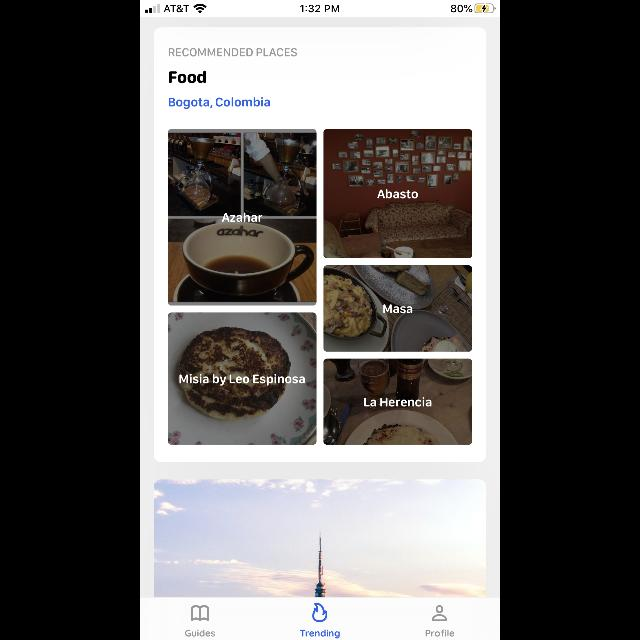icon: (190, 605, 210, 621), (432, 605, 448, 621)
image: (154, 480, 486, 598), (168, 129, 316, 305), (168, 313, 316, 445), (324, 130, 472, 258), (324, 359, 472, 445), (324, 266, 472, 352), (312, 602, 328, 622)
text: (180, 374, 304, 386), (170, 97, 270, 109), (169, 48, 297, 56), (364, 398, 432, 407), (170, 70, 207, 84), (222, 212, 262, 222), (300, 630, 340, 638), (378, 190, 418, 198), (383, 304, 412, 314), (185, 630, 215, 636), (426, 630, 454, 636)
uppertaskbar: (140, 1, 500, 18)
